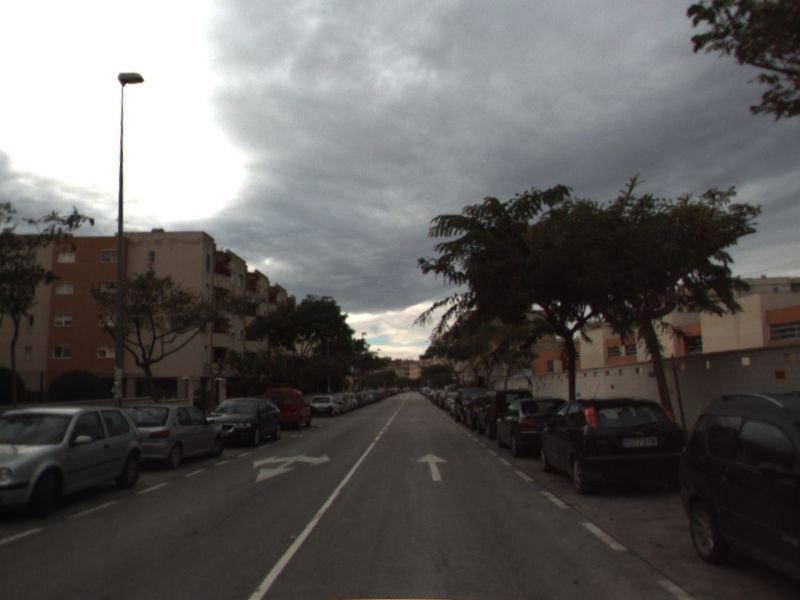STRAIGHT: (415, 450, 451, 483)
